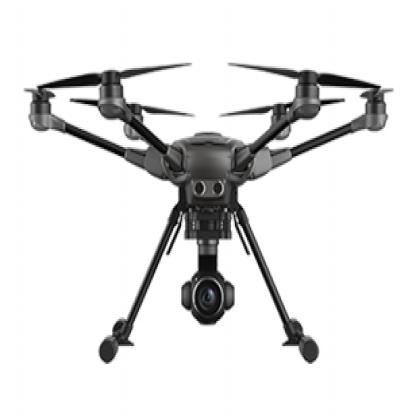drone: (21, 56, 402, 197)
